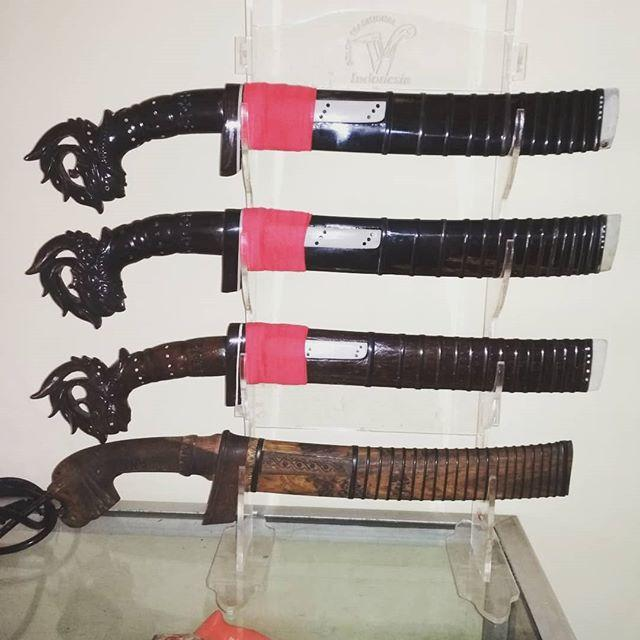facao: (27, 203, 614, 319), (27, 87, 632, 197), (23, 312, 605, 418), (41, 430, 582, 536)
